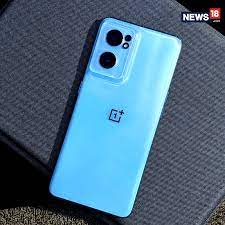phone: (59, 18, 183, 212)
